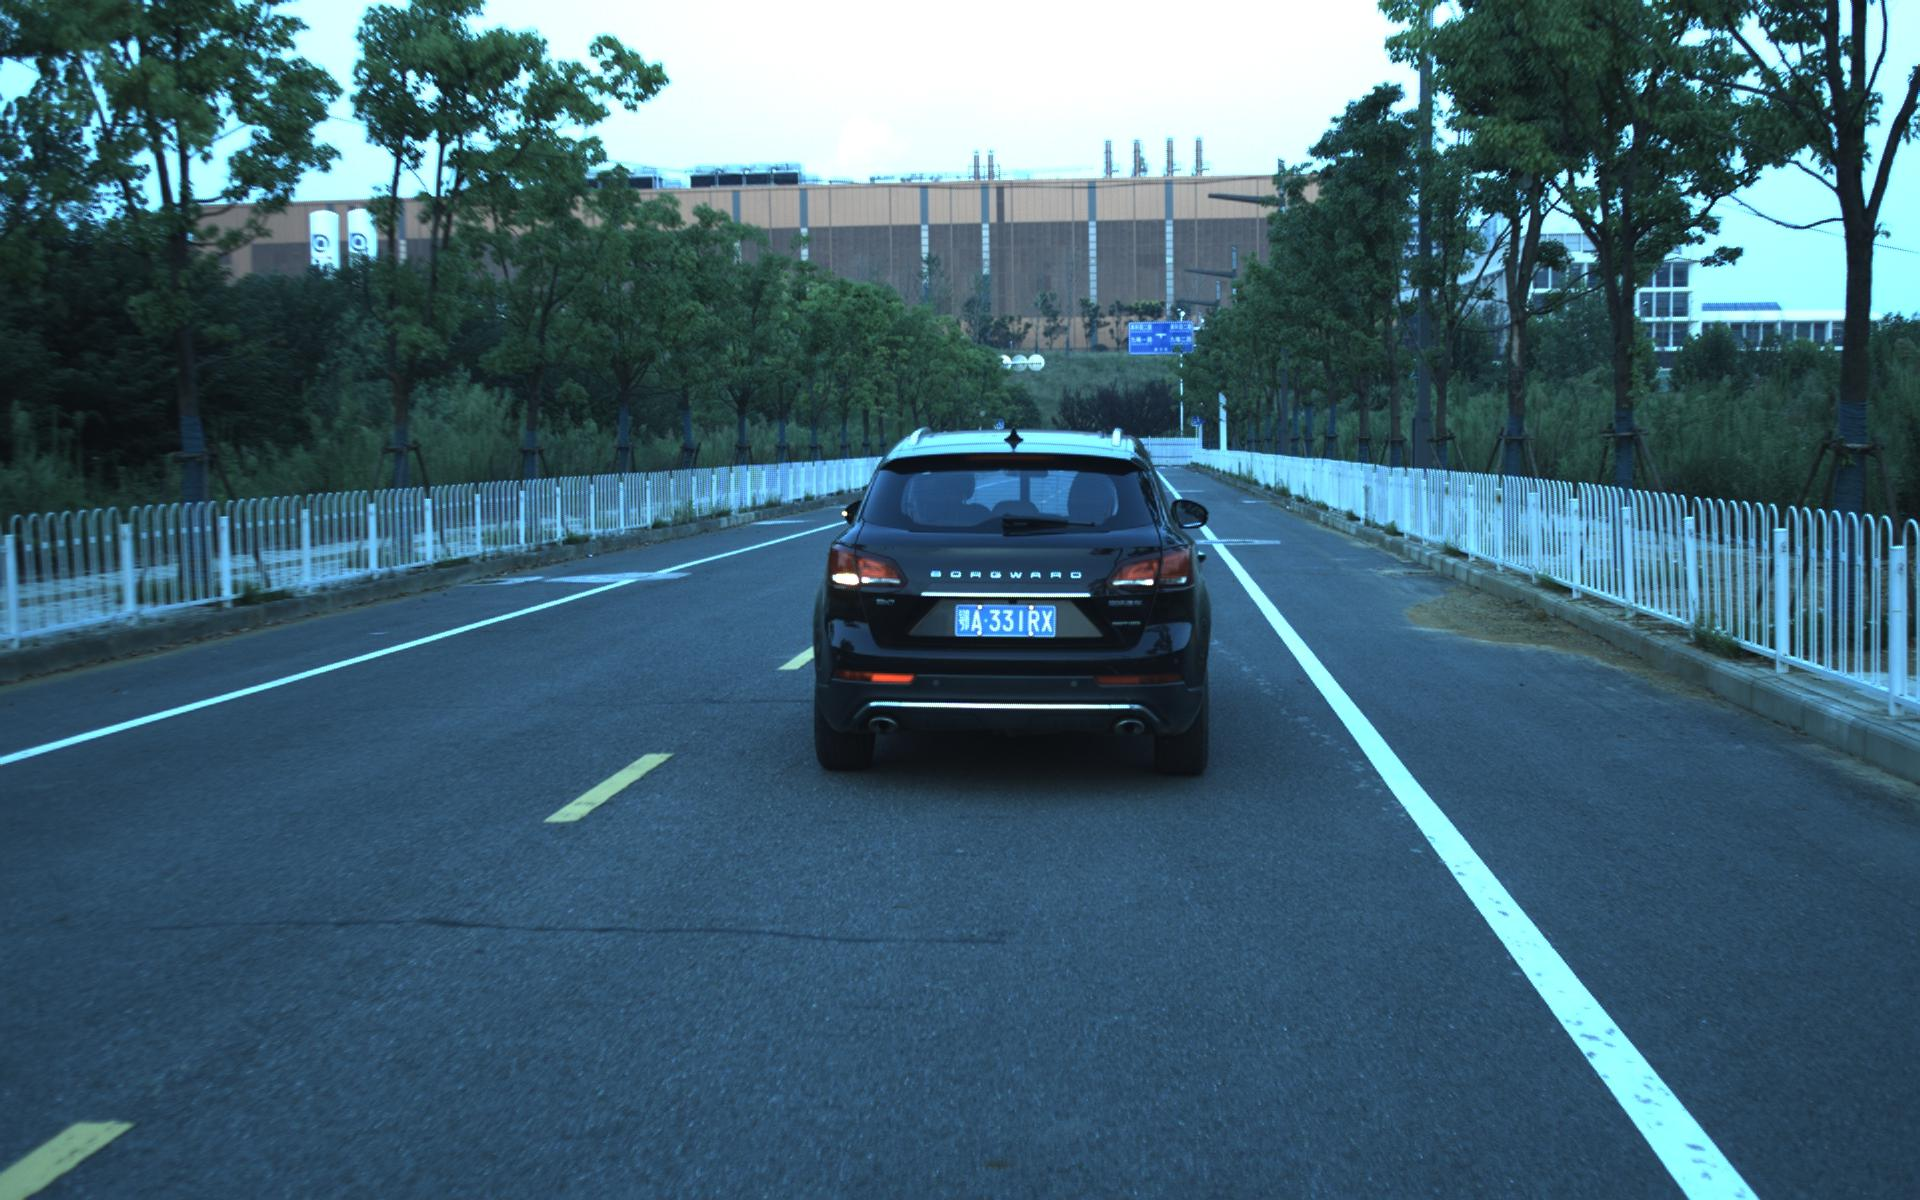Car: (804, 418, 1210, 781)
